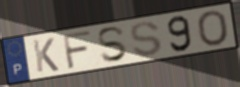9: (167, 15, 194, 53)
F: (61, 30, 93, 71)
K: (31, 36, 61, 74)
O: (195, 9, 230, 48)
S: (129, 20, 164, 58), (96, 25, 130, 64)
